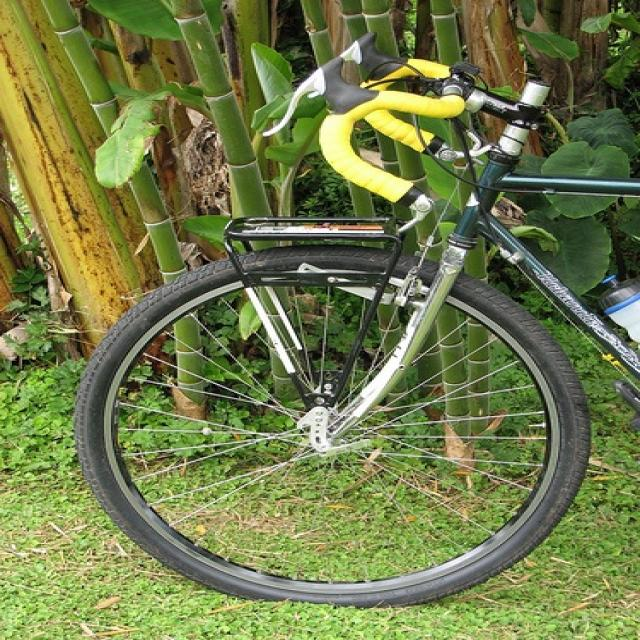bicycle: (72, 29, 638, 608)
